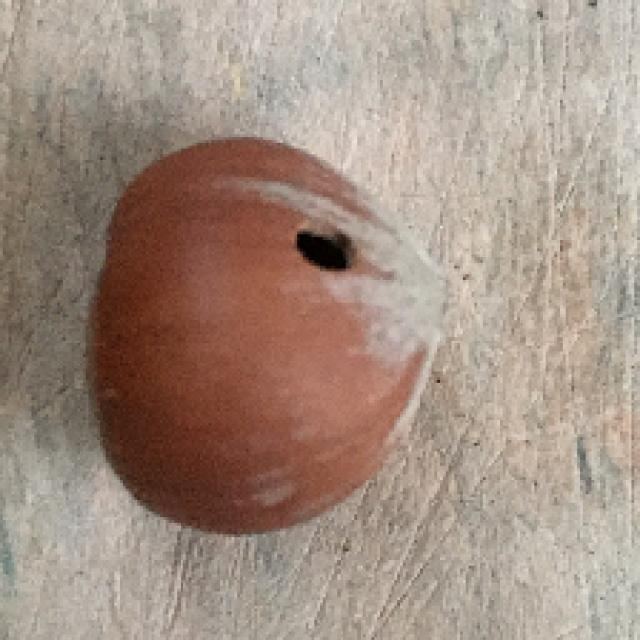damagedHazelnut: (78, 129, 463, 544)
